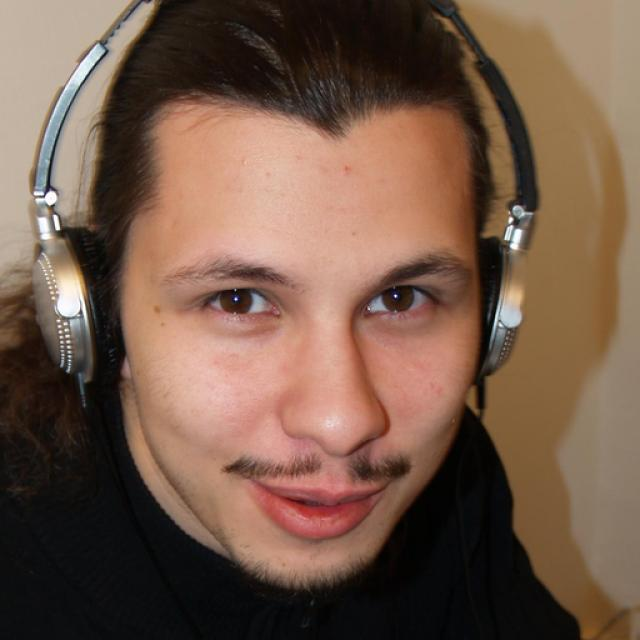Acne: (336, 161, 355, 178)
